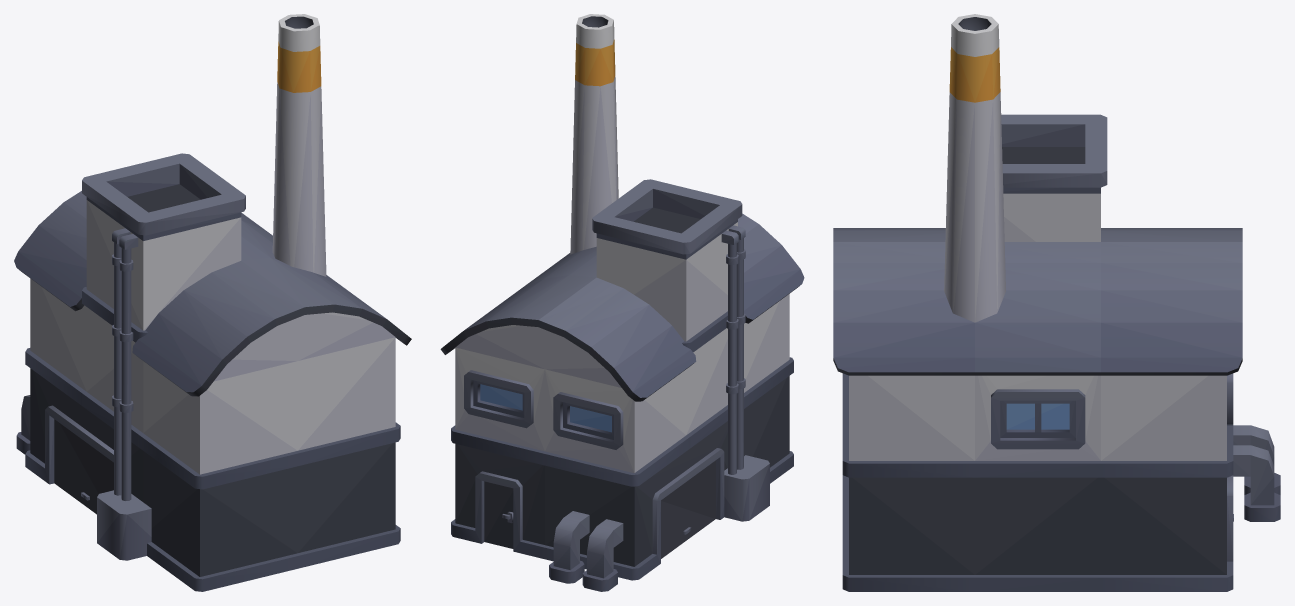
File: ind_n.glb
The picture shows the model from 3 angles, left to right: view 1: azimuth 30°, elevation 25°; view 2: azimuth 150°, elevation 25°; view 3: azimuth 270°, elevation 25°; orthographic projection. The views are drawn at different scales.
Visible parts, largest first — view 1: building-n; view 2: building-n; view 3: building-n.
Boxes of the visible parts, x1,y1,x2,y2 form: building-n: (14,14,411,591); building-n: (440,14,804,591); building-n: (833,14,1280,591).
Bounding box in the file's own units: 0.977 × 1.9 × 1.42.
